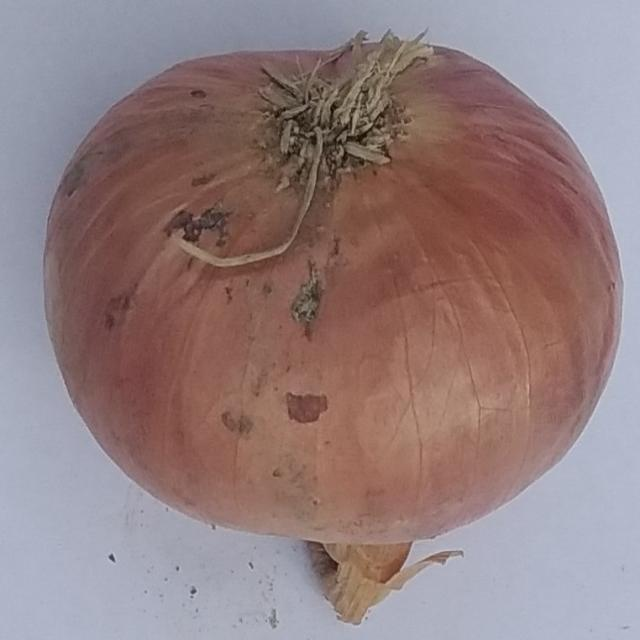onion: (43, 21, 626, 630)
